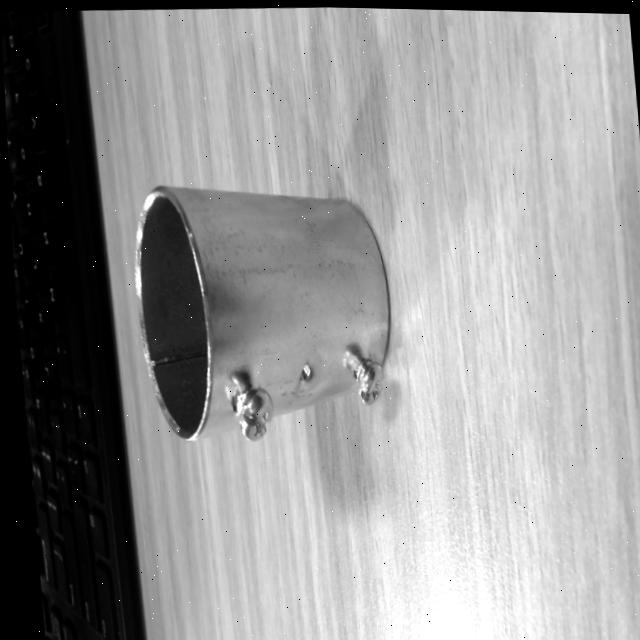Co_Nho: (134, 186, 388, 440)
